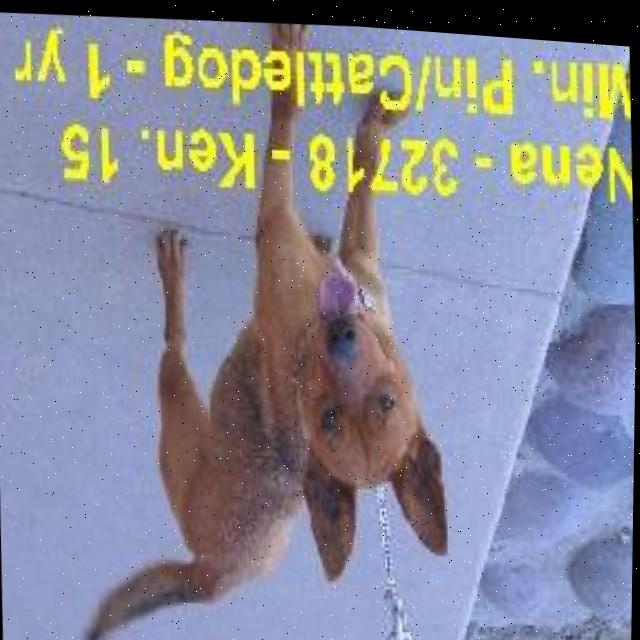dogs: (38, 3, 465, 640)
